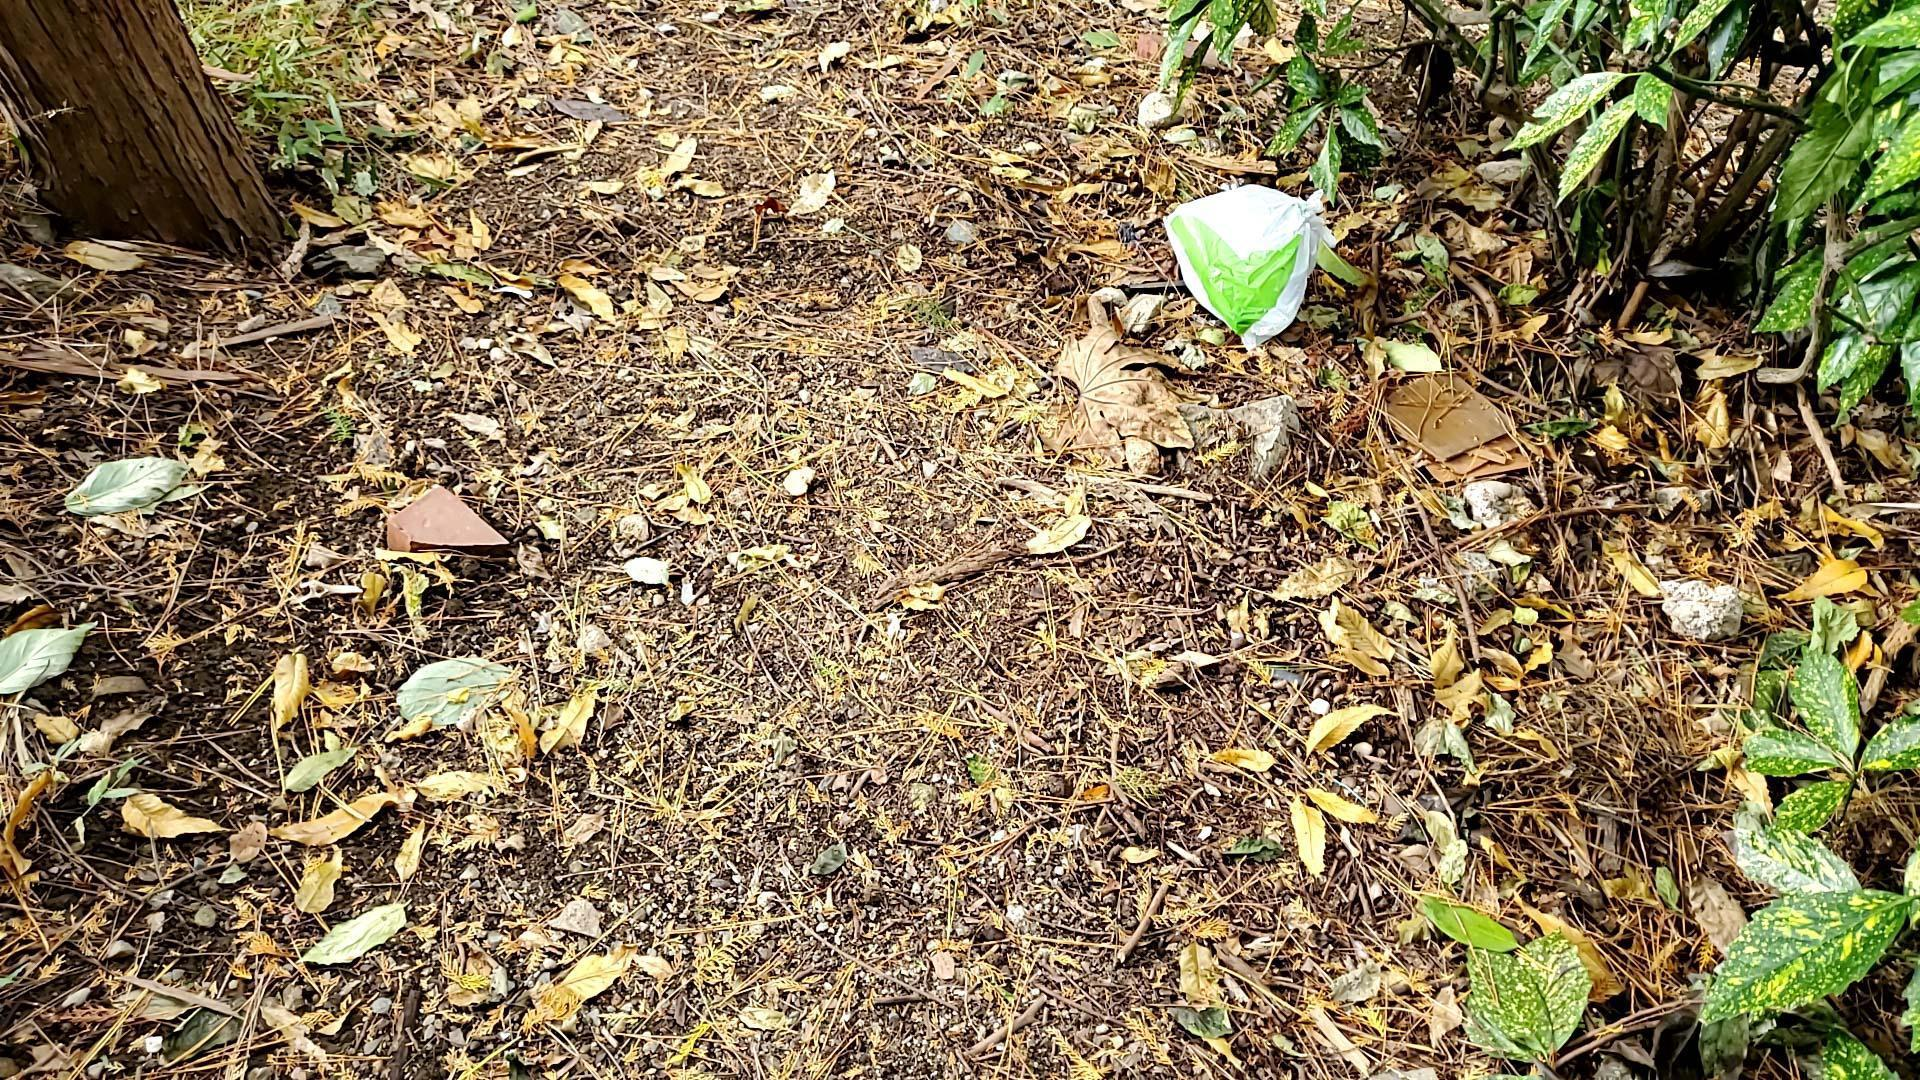white_bag: (1146, 169, 1348, 373)
